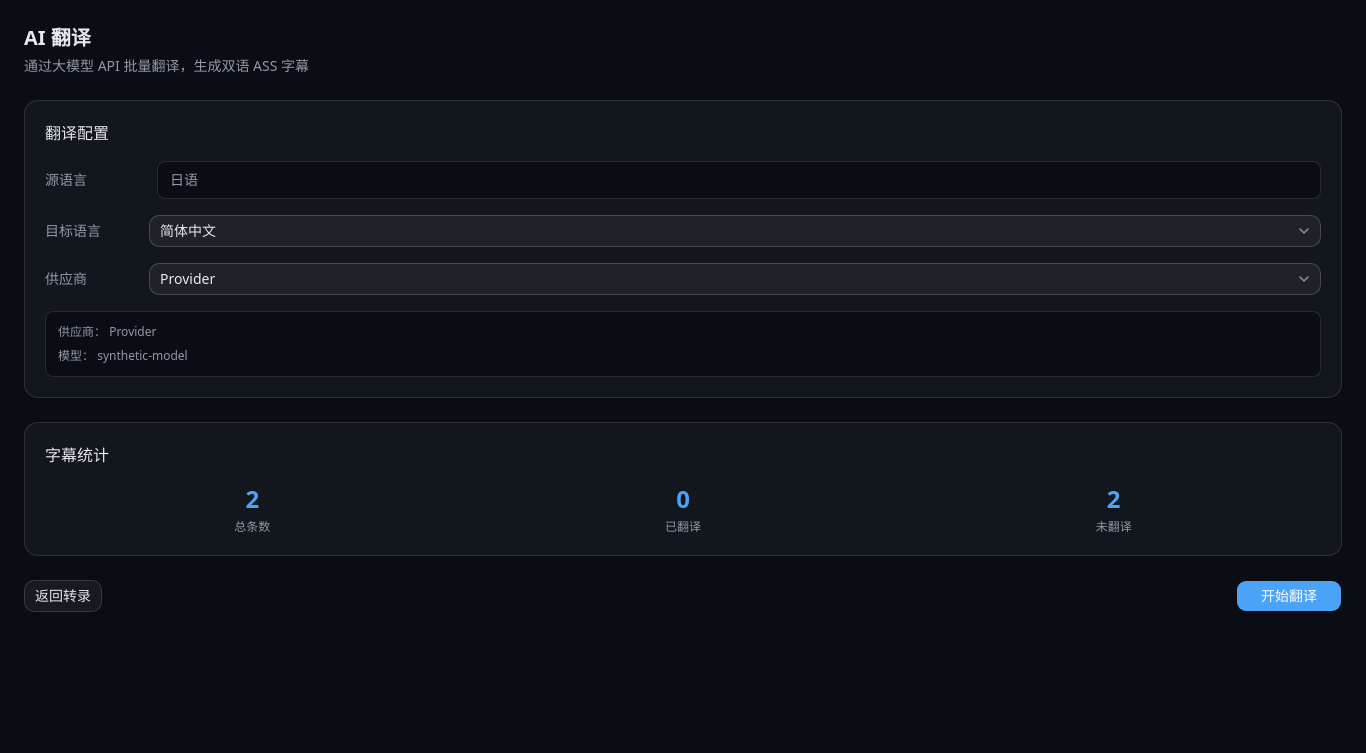
Test case: TranslateView › does not start after the discard confirmation sees a changed document
Click the button "开始翻译" at (1289, 596), box [1236,580,1342,612]
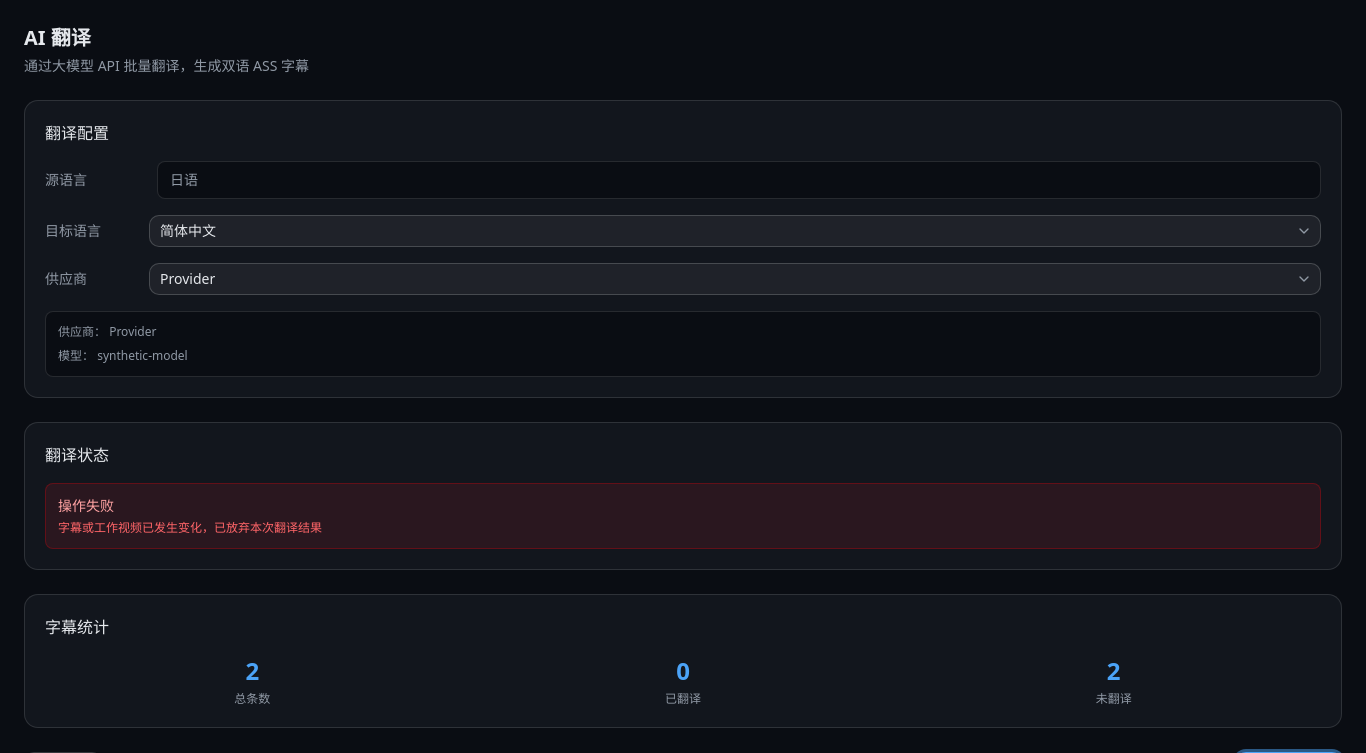
Expected: the text "操作失败" is shown, [58,496,114,515]
Expected: the text "字幕或工作视频已发生变化，已放弃本次翻译结果" is shown, [58,519,322,536]
